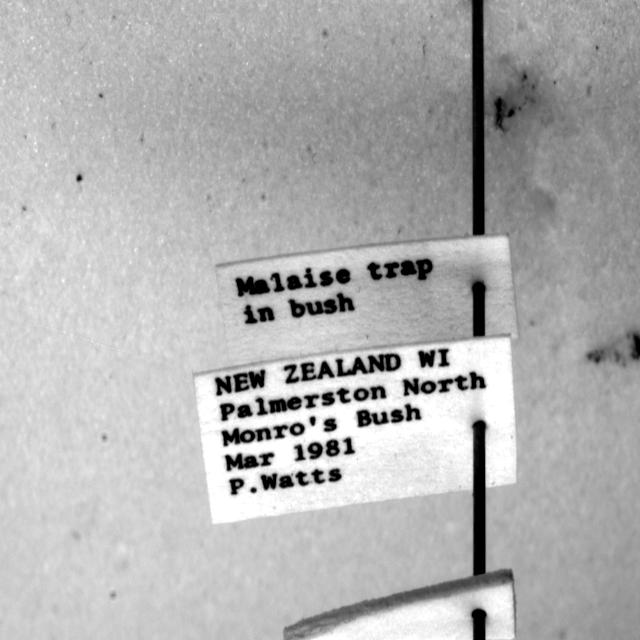typed_label: (194, 338, 516, 523), (216, 234, 519, 362)
